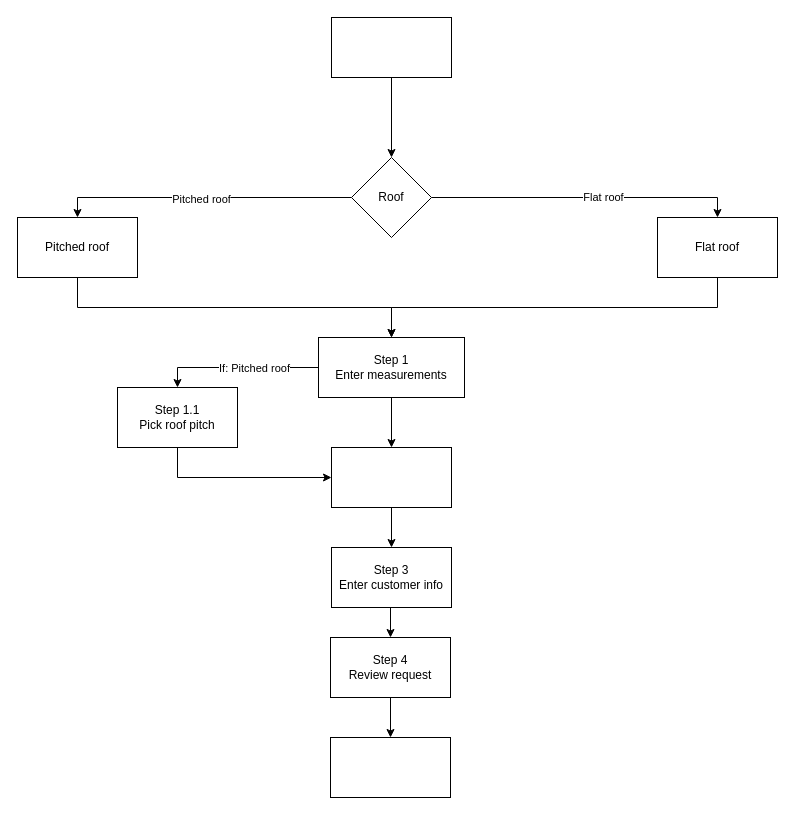
Some shapes in this 795 by 815 pixel diagram are drawn without their labels. Each missing label, with the box of its shape:
Confirmation: (330, 736, 450, 798)
Step 2 Choose materials: (330, 446, 452, 508)
www.fog.dk/carport: (330, 16, 452, 78)
